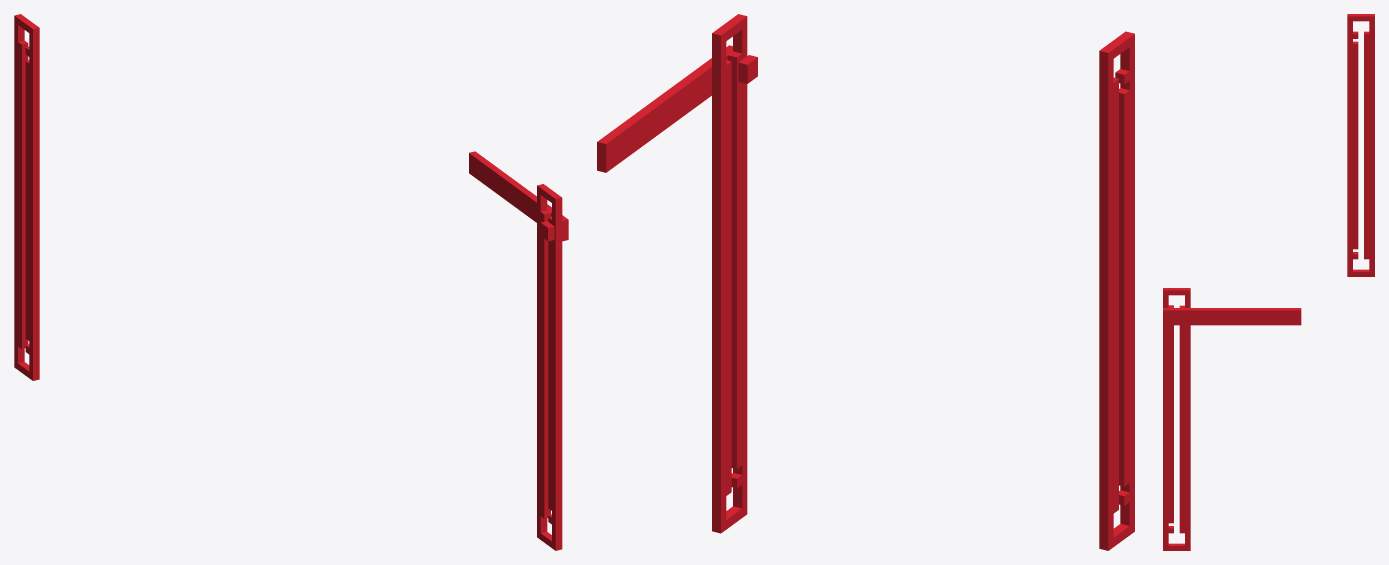
File: tinker.obj
The picture shows the model from 3 angles, left to right: view 1: azimuth 30°, elevation 25°; view 2: azimuth 150°, elevation 25°; view 3: azimuth 270°, elevation 25°; orthographic projection. The views are drawn at different scales.
Visible parts, largest first — view 1: obj_14, obj_1, obj_13, obj_0, obj_8; view 2: obj_13, obj_0, obj_1, obj_14, obj_8; view 3: obj_0, obj_13, obj_8, obj_14, obj_1.
Part boxes in pixels (left/top/right/bottom): obj_14: left=25, top=60, right=39, bottom=343; obj_1: left=548, top=235, right=562, bottom=513; obj_13: left=14, top=39, right=28, bottom=348; obj_0: left=537, top=209, right=550, bottom=518; obj_8: left=469, top=151, right=568, bottom=241; obj_13: left=1099, top=77, right=1118, bottom=517; obj_0: left=712, top=60, right=731, bottom=499; obj_1: left=731, top=75, right=747, bottom=469; obj_14: left=1119, top=86, right=1134, bottom=486; obj_8: left=597, top=45, right=732, bottom=172; obj_0: left=1179, top=305, right=1190, bottom=533; obj_13: left=1364, top=31, right=1374, bottom=259; obj_8: left=1163, top=308, right=1301, bottom=325; obj_14: left=1347, top=41, right=1358, bottom=249; obj_1: left=1163, top=325, right=1173, bottom=523.
Bounding box in the file's own units: 763 × 936 × 460.
